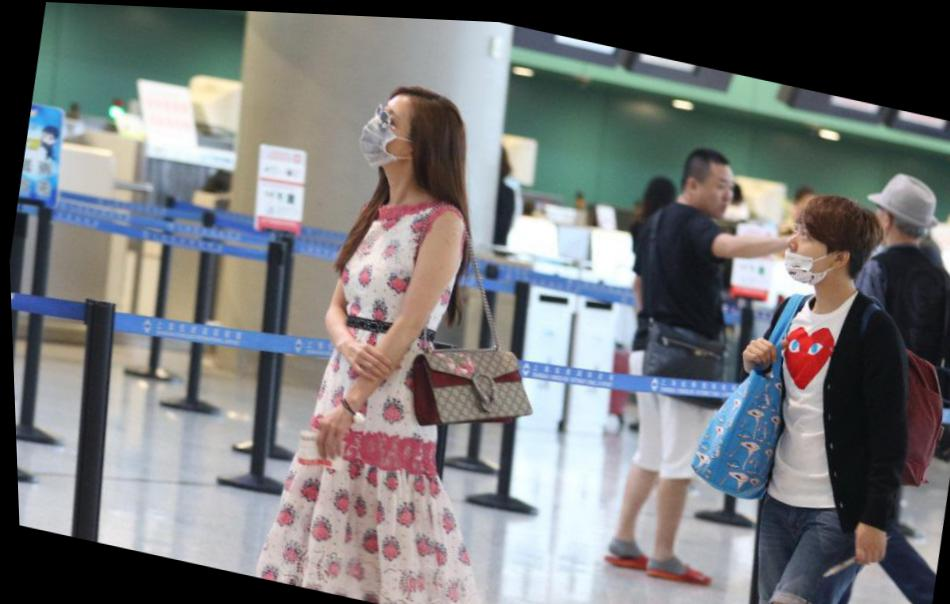NONE: (691, 163, 740, 215)
OK: (356, 97, 419, 170)
WRONG: (777, 203, 850, 284)
